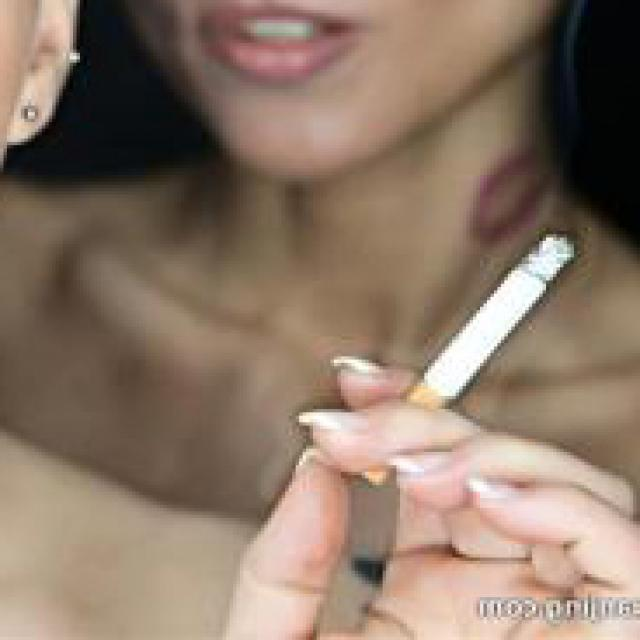smoking: (357, 230, 574, 486)
